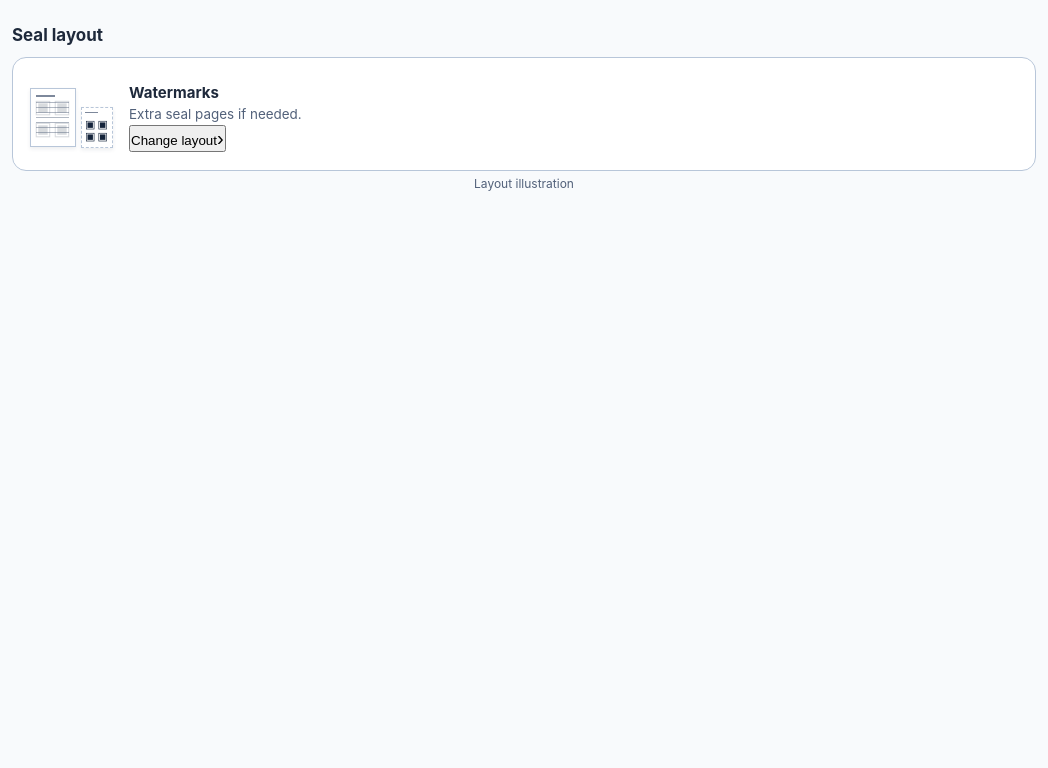
Scenario: keeps the current layout until a choice is applied and discards a cancelled draft
This screenshot has width=1048, height=768.
Expected: the text "Extra seal pages if needed." is shown, [129,106,302,122]
Click the button "Change layout›".
click(177, 138)  # box [129,125,226,152]
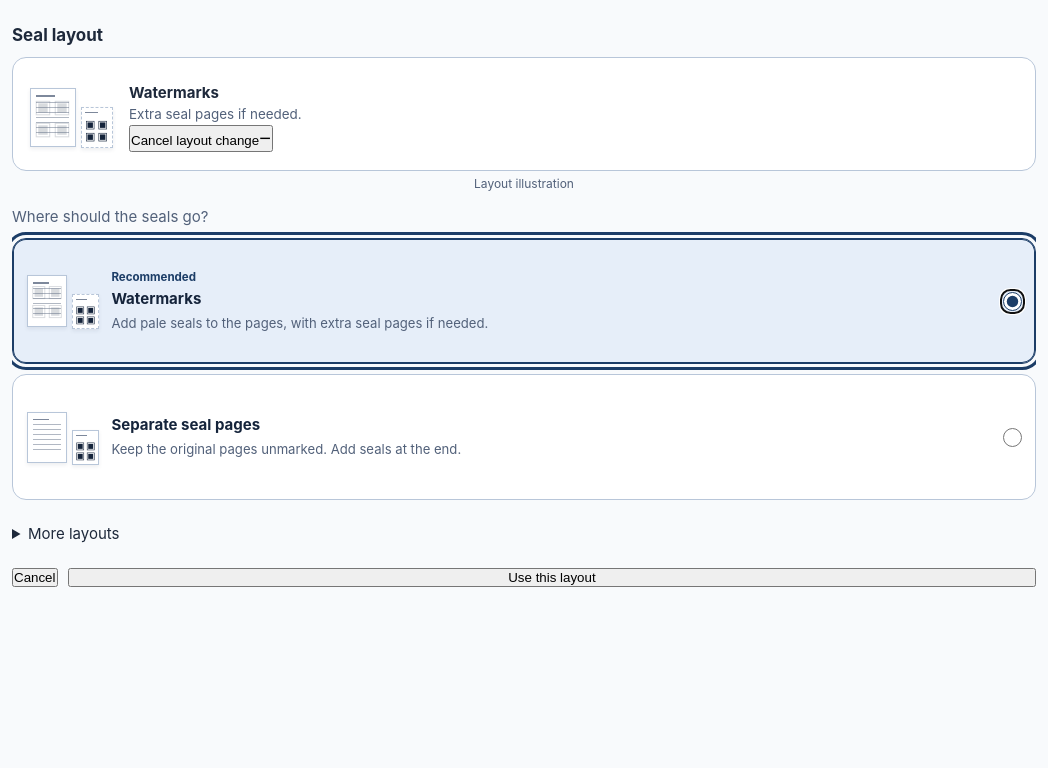
Expected: the radio button labelled "Watermarks" is checked, [1003,292,1022,311]
Click the radio button labelled "Separate seal pages".
click(1012, 438)  # box [1003,428,1022,447]
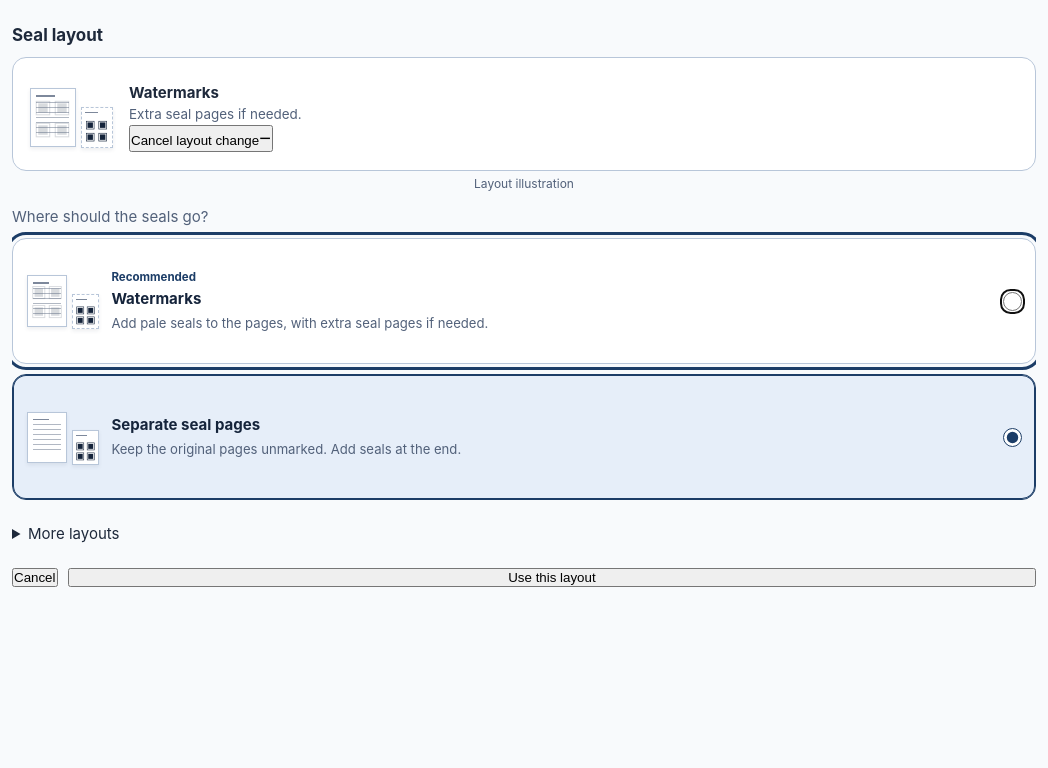
Click the button "Cancel".
click(35, 578)  # box [12,568,58,587]
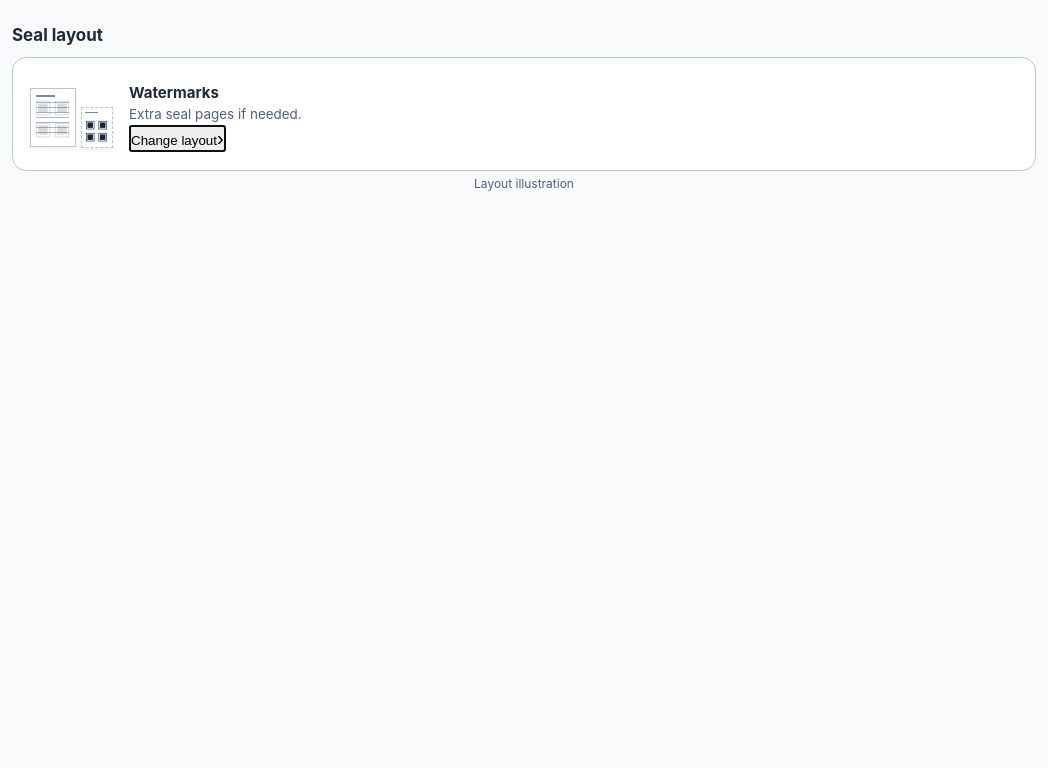
Click the button "Change layout›".
click(177, 138)  # box [129,125,226,152]
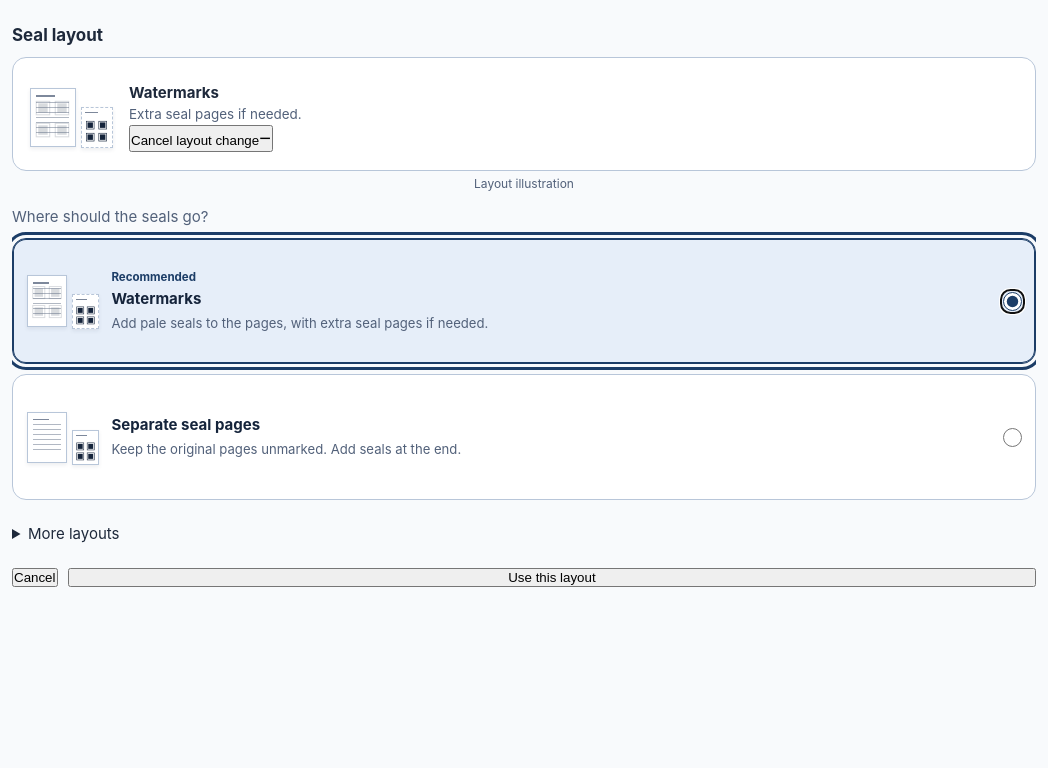
Expected: the radio button labelled "Watermarks" is checked, [1003,292,1022,311]
